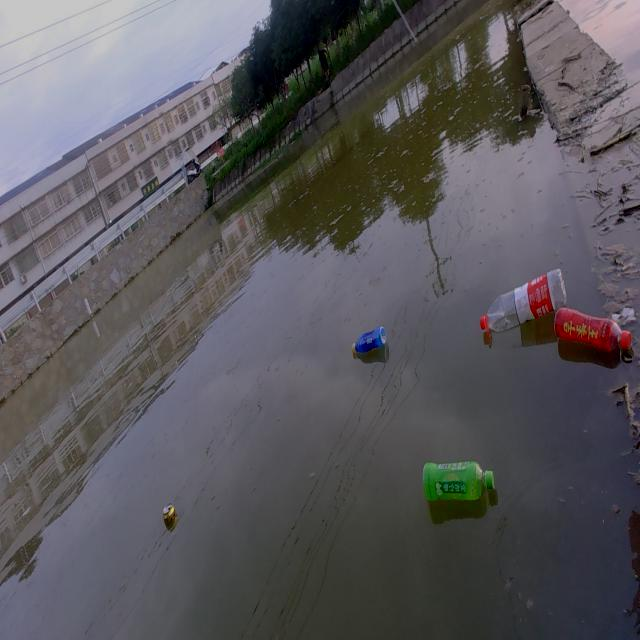bottle: (460, 250, 570, 351), (547, 293, 639, 367), (410, 451, 506, 515), (345, 308, 398, 368)
